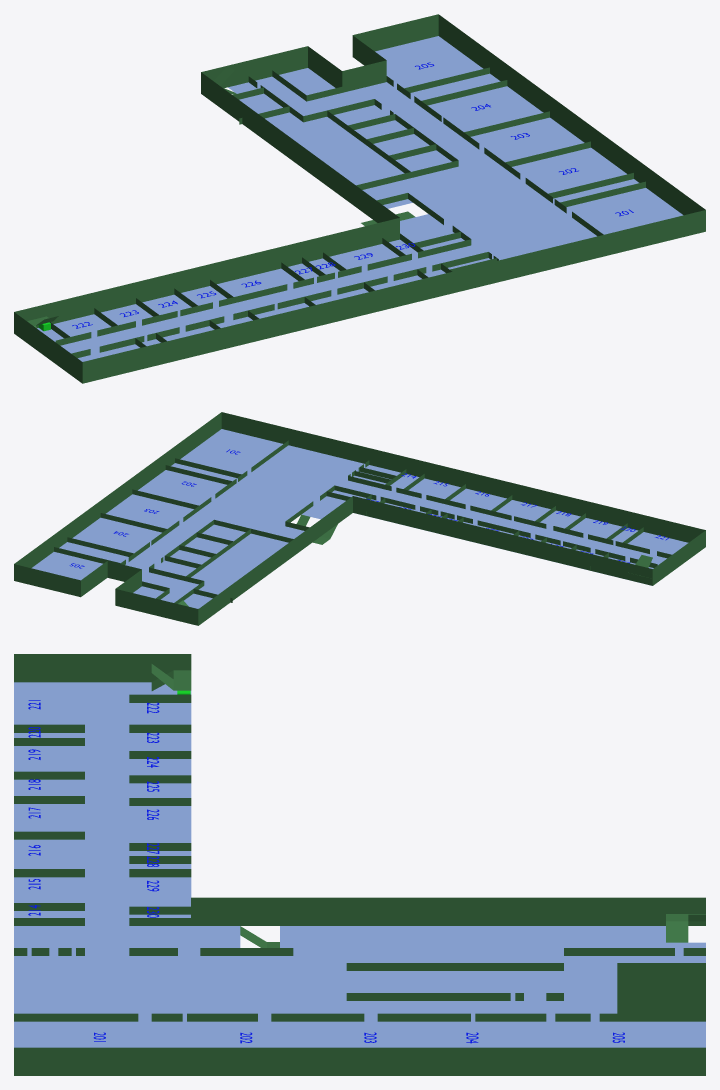
The model's file is SecondFloor.glb.
3 views of the same model, one above another, from view 1: azimuth 30°, elevation 25°; view 2: azimuth 150°, elevation 25°; view 3: azimuth 270°, elevation 25° (orthographic). The views are drawn at different scales.
Parts seen in each view (by area): view 1: Floor.001, Outer walls.001, Inner wall.001; view 2: Floor.001, Outer walls.001, Inner wall.001; view 3: Floor.001, Outer walls.001, Inner wall.001, RightLadder.001, LeftLadder.001.
Part boxes in pixels (x1,y1,x2,y2): Floor.001: (37, 36, 683, 361); Outer walls.001: (14, 14, 705, 383); Inner wall.001: (50, 67, 645, 358); Floor.001: (31, 429, 688, 608); Outer walls.001: (14, 412, 705, 625); Inner wall.001: (54, 440, 671, 603); Floor.001: (14, 682, 705, 1047); Outer walls.001: (14, 654, 705, 1075); Inner wall.001: (14, 694, 705, 1021); RightLadder.001: (666, 914, 705, 942); LeftLadder.001: (151, 664, 191, 690).
Bounding box in the file's own units: 210 × 14 × 156.
